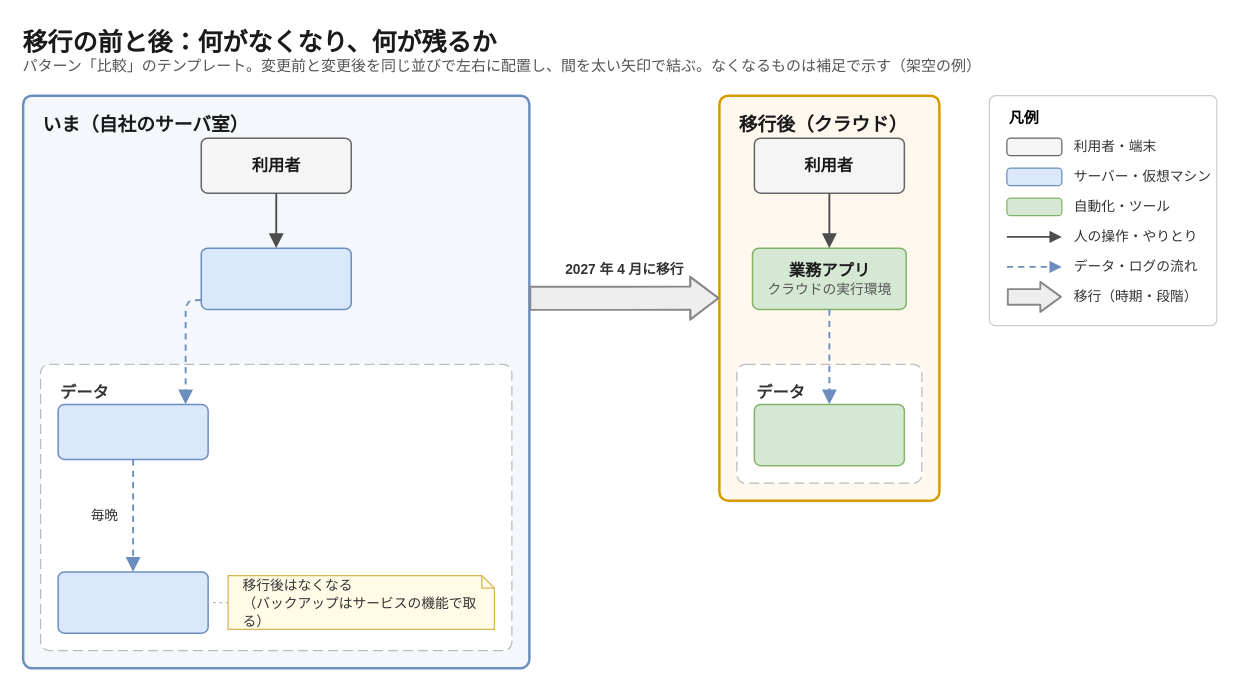
This 1239x690 diagram has some shape labels left out. The centre of each missing label's shape, as x and y in pixels:
テープ装置 バックアップ: point 132,601
データベース: point 132,431
データベース 管理型サービス: point 828,434
業務アプリ 自社のサーバ: point 275,278
